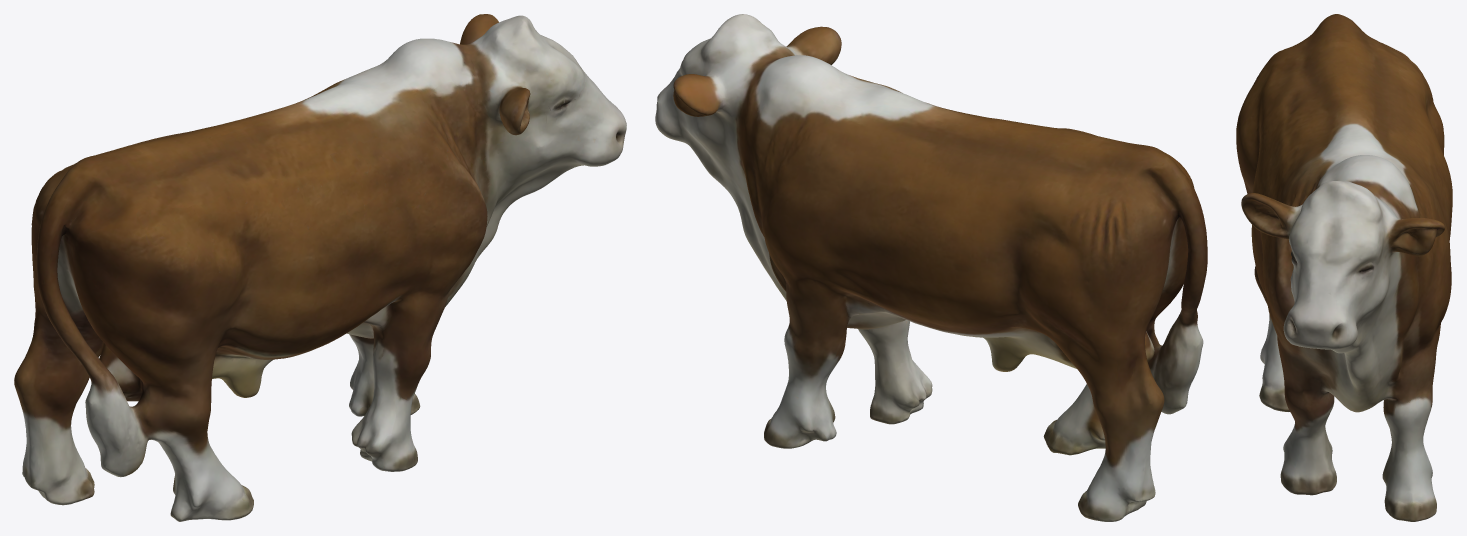
File: Schleich_Hereford_Bull.glb
The picture shows the model from 3 angles, left to right: view 1: azimuth 30°, elevation 25°; view 2: azimuth 150°, elevation 25°; view 3: azimuth 270°, elevation 25°; orthographic projection. The views are drawn at different scales.
Parts seen in each view (by area): view 1: geometry_0; view 2: geometry_0; view 3: geometry_0.
Boxes of the visible parts, <box> form: geometry_0: <box>14,14,626,521</box>; geometry_0: <box>655,14,1207,521</box>; geometry_0: <box>1236,14,1452,521</box>.
Size of the model in its own units: 1 by 0.6595 by 0.3453.
1 material, 1 textured.
